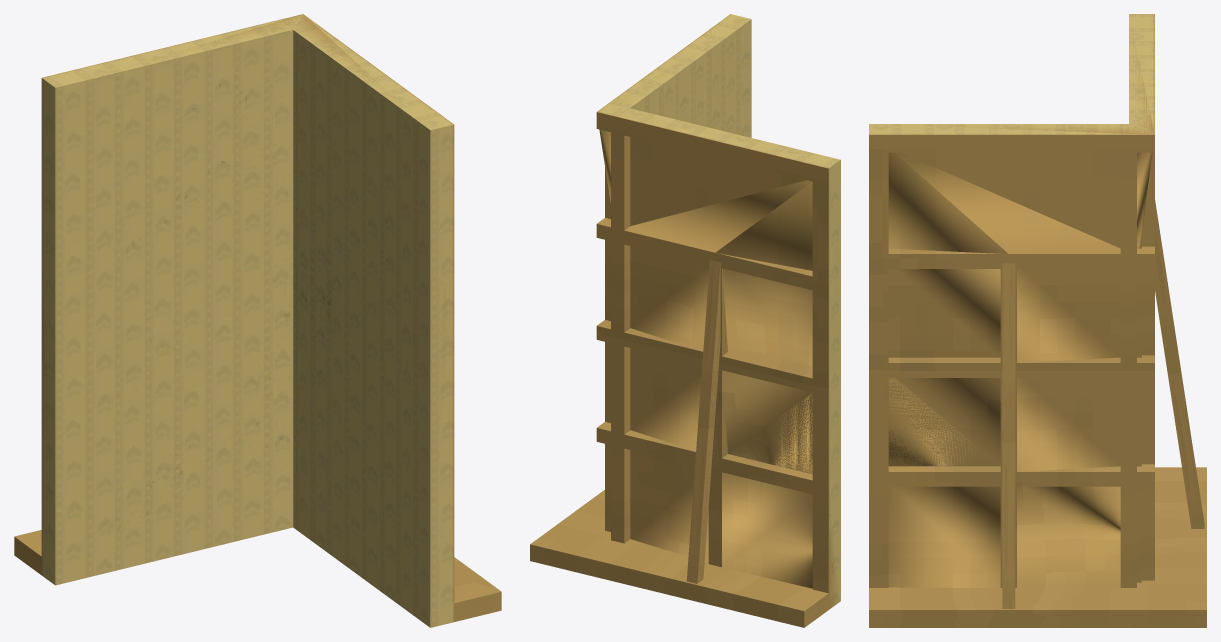
The model's file is item_backrooms_corner_in.glb.
3 renders of one model, left to right at view 1: azimuth 30°, elevation 25°; view 2: azimuth 150°, elevation 25°; view 3: azimuth 270°, elevation 25°, orthographic. The views are drawn at different scales.
Visible parts, largest first — view 1: backrooms_corner_in; view 2: backrooms_corner_in; view 3: backrooms_corner_in.
Part boxes in pixels (bbox=[...]): backrooms_corner_in: bbox=[14, 14, 501, 627]; backrooms_corner_in: bbox=[530, 14, 840, 627]; backrooms_corner_in: bbox=[869, 14, 1206, 627].
Size of the model in its own units: 1.3 by 2 by 1.3.
Materials: 1 (1 with a texture image).
